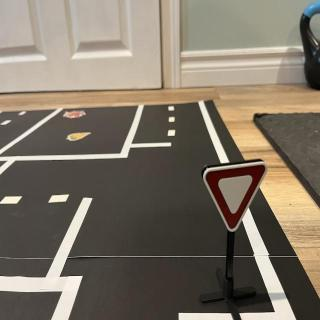sign_yield: (203, 161, 269, 234)
